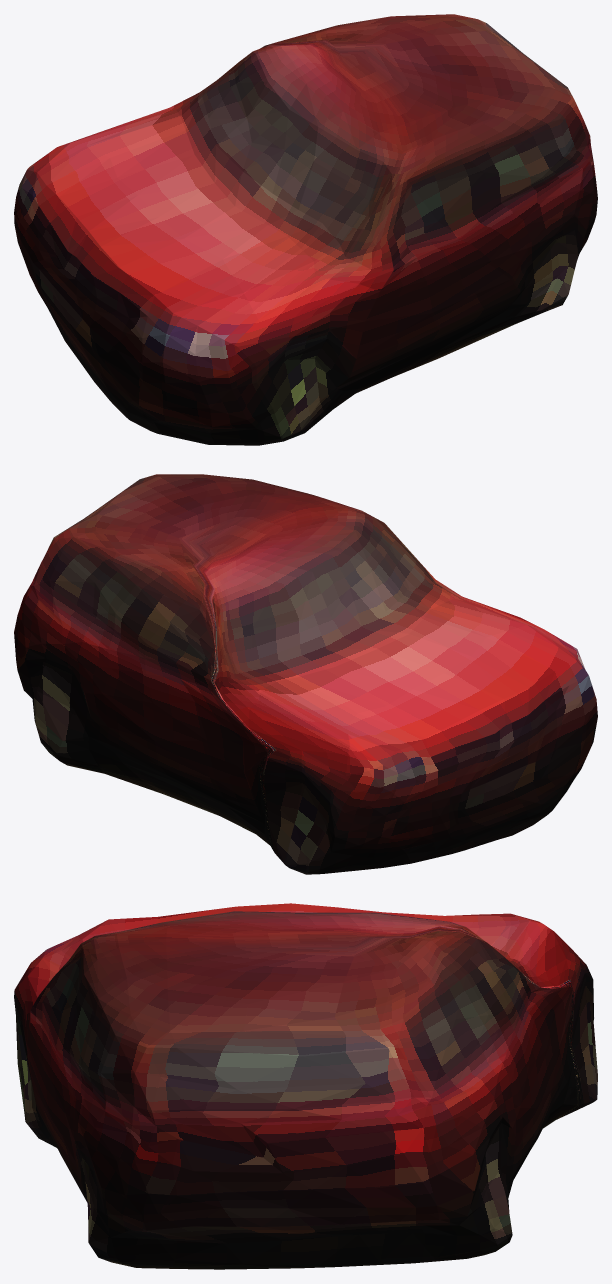
Rendered from video3_398.obj.
3 renders of one model, top to bottom at view 1: azimuth 30°, elevation 25°; view 2: azimuth 150°, elevation 25°; view 3: azimuth 270°, elevation 25°, orthographic. The views are drawn at different scales.
Bounding box in the file's own units: 1 × 0.5257 × 0.8531.
Materials: 1 (1 with a texture image).
